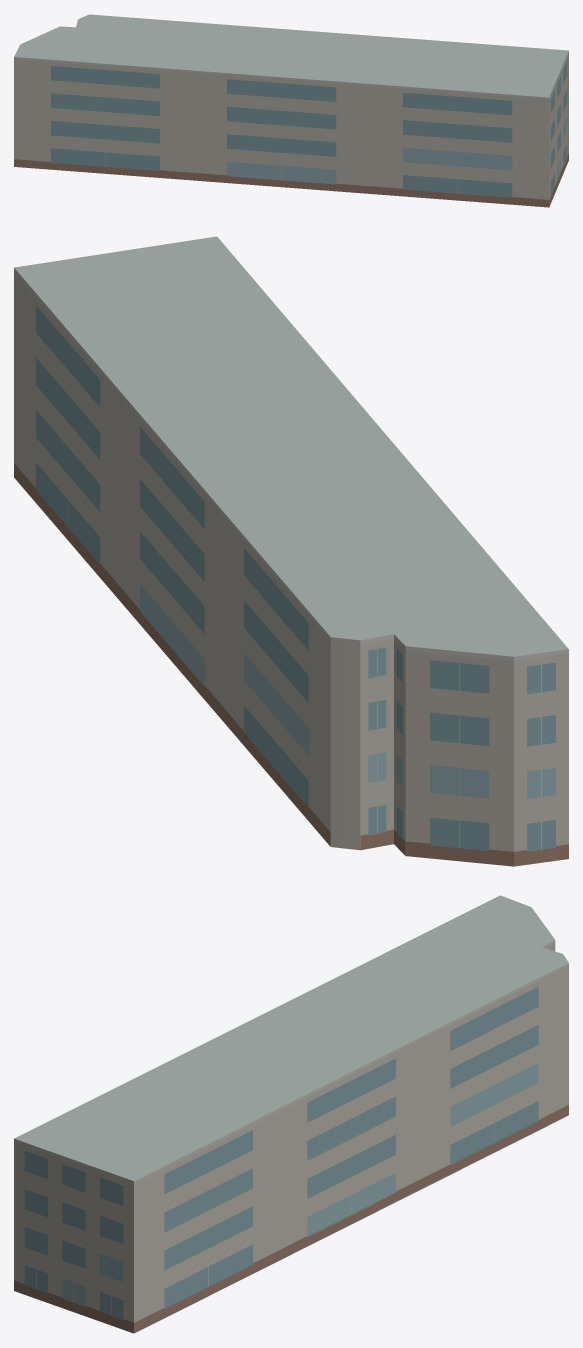
Rendered from survey-upis-32980673.glb.
3 views of the same model, one above another, from view 1: azimuth 30°, elevation 25°; view 2: azimuth 150°, elevation 25°; view 3: azimuth 270°, elevation 25° (orthographic). The views are drawn at different scales.
Parts seen in each view (by area): view 1: survey-upis-32980673.tmp; view 2: survey-upis-32980673.tmp; view 3: survey-upis-32980673.tmp.
Part boxes in pixels (left/top/right/bottom): survey-upis-32980673.tmp: left=14, top=14, right=568, bottom=207; survey-upis-32980673.tmp: left=14, top=236, right=568, bottom=866; survey-upis-32980673.tmp: left=14, top=895, right=568, bottom=1333.
Bounding box in the file's own units: 50.31 × 12.5 × 41.27.
